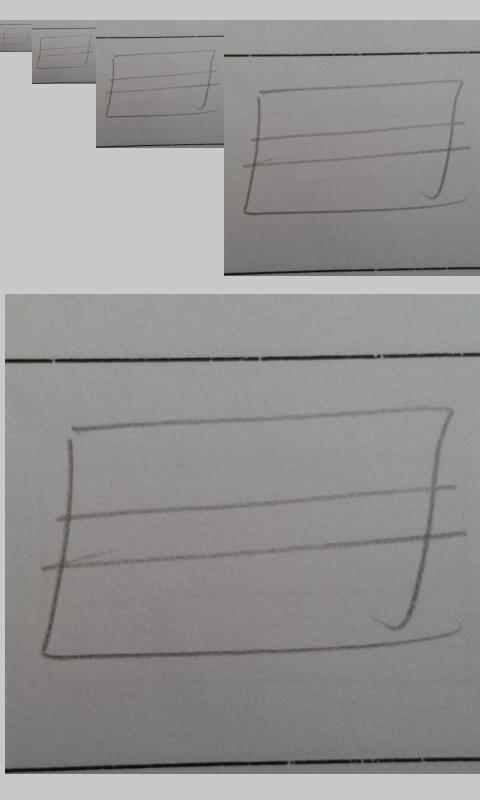list_view: (36, 403, 454, 668), (242, 78, 463, 217), (105, 49, 216, 119), (36, 34, 92, 70), (1, 27, 30, 46)
